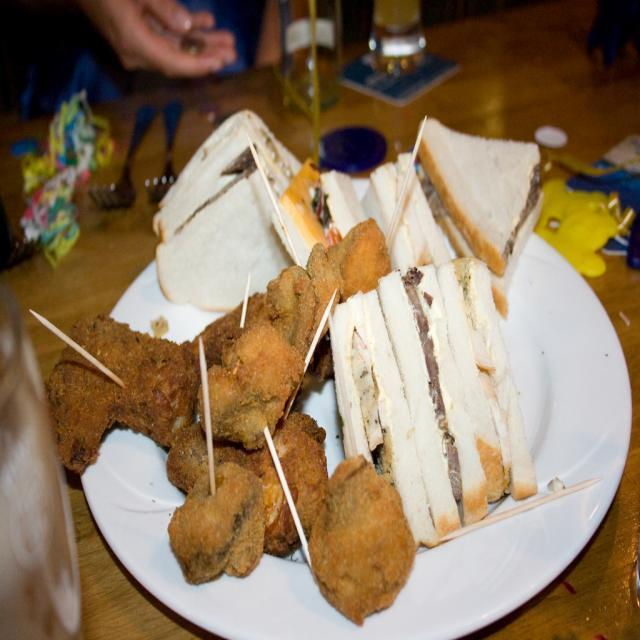Sandwich: (151, 104, 547, 553)
